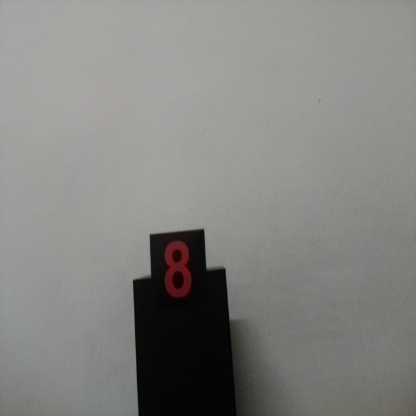id_8: (150, 233, 207, 319)
